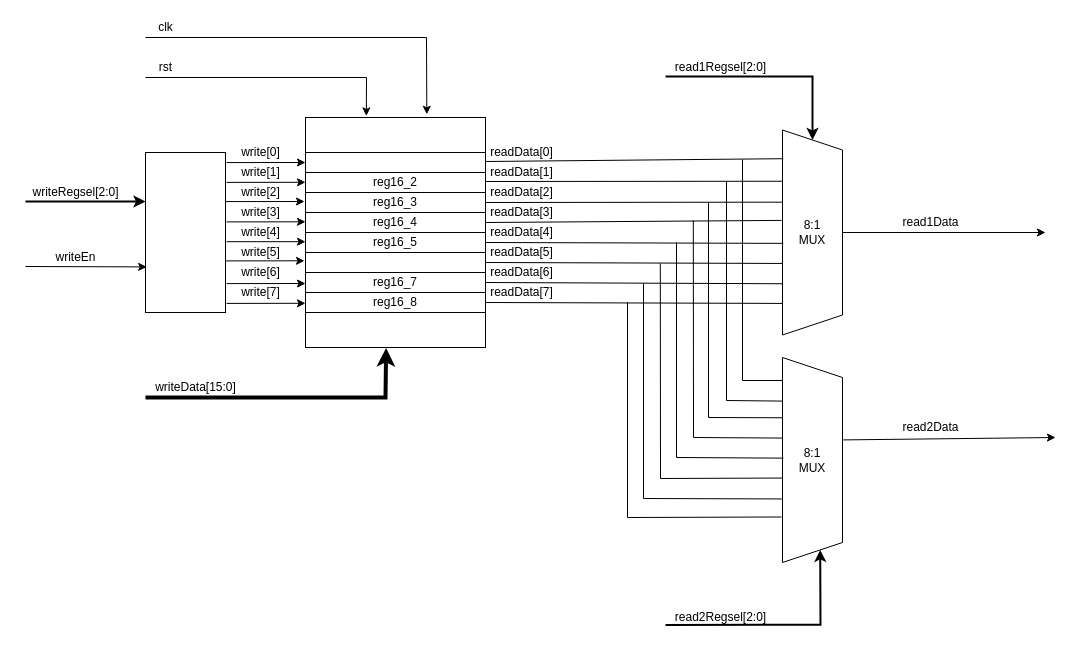
Image size: 1081x651. Some labels were removed from this diagram. Here are the shapes that lost their labels. From the top down, the centre of each, then its label:
At pixel 395 162: "reg16_1".
At pixel 185 232: "write".
At pixel 395 262: "reg16_6".
